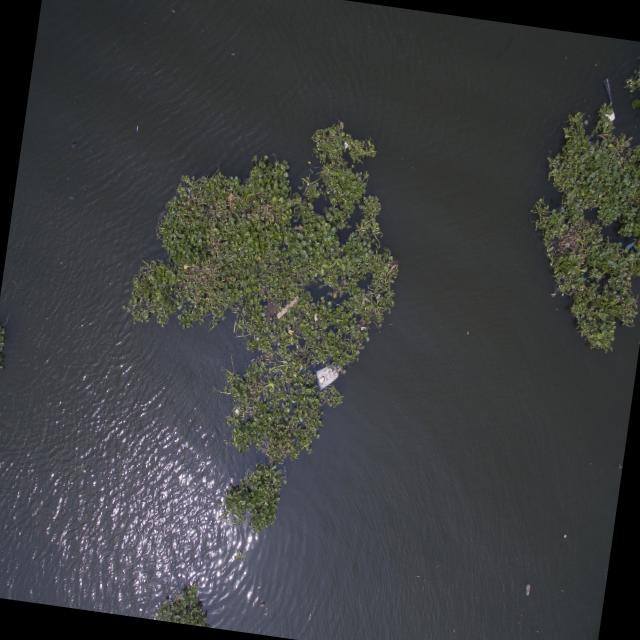Plastic: (314, 363, 340, 392), (276, 294, 300, 322)
